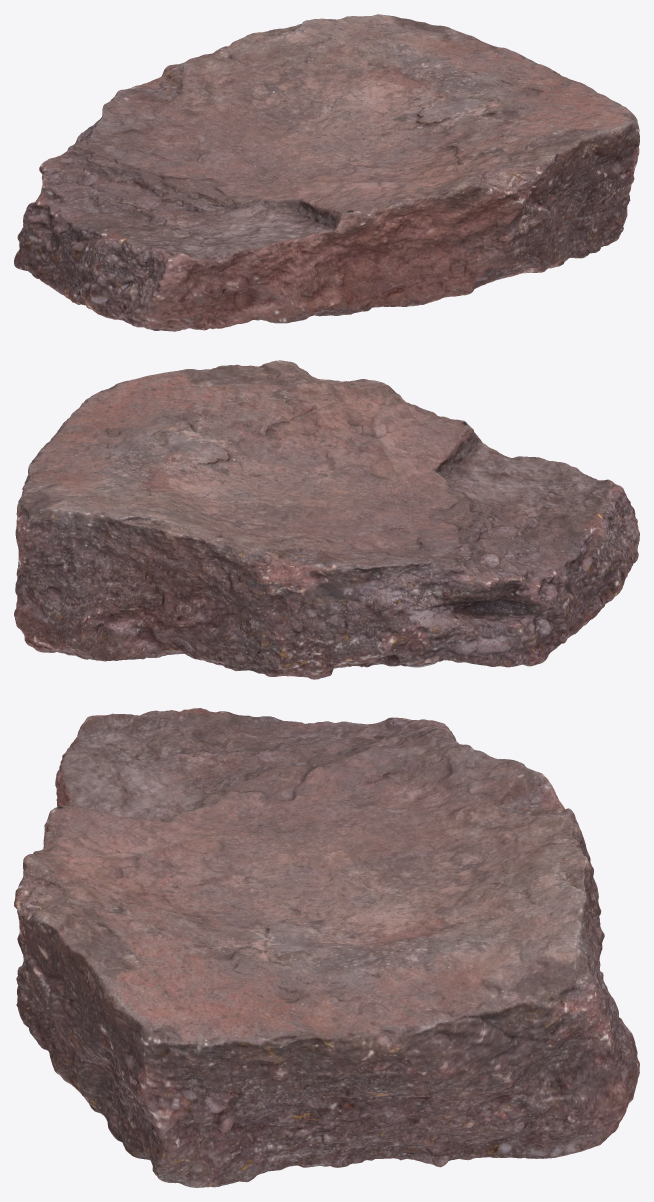
The model's file is hematite.glb.
The picture shows the model from 3 angles, top to bottom: view 1: azimuth 30°, elevation 25°; view 2: azimuth 150°, elevation 25°; view 3: azimuth 270°, elevation 25°; orthographic projection. The views are drawn at different scales.
Visible parts, largest first — view 1: Object_2; view 2: Object_2; view 3: Object_2.
Part boxes in pixels (x1,y1,x2,y2): Object_2: (14, 14, 639, 331); Object_2: (14, 360, 639, 679); Object_2: (14, 708, 639, 1187).
Bounding box in the file's own units: 4.33 × 1.19 × 3.21.
Materials: 1 (1 with a texture image).
